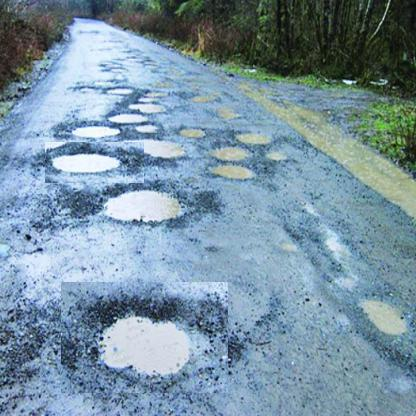pothole_water: (60, 282, 228, 394), (90, 179, 203, 238), (44, 142, 144, 184)
